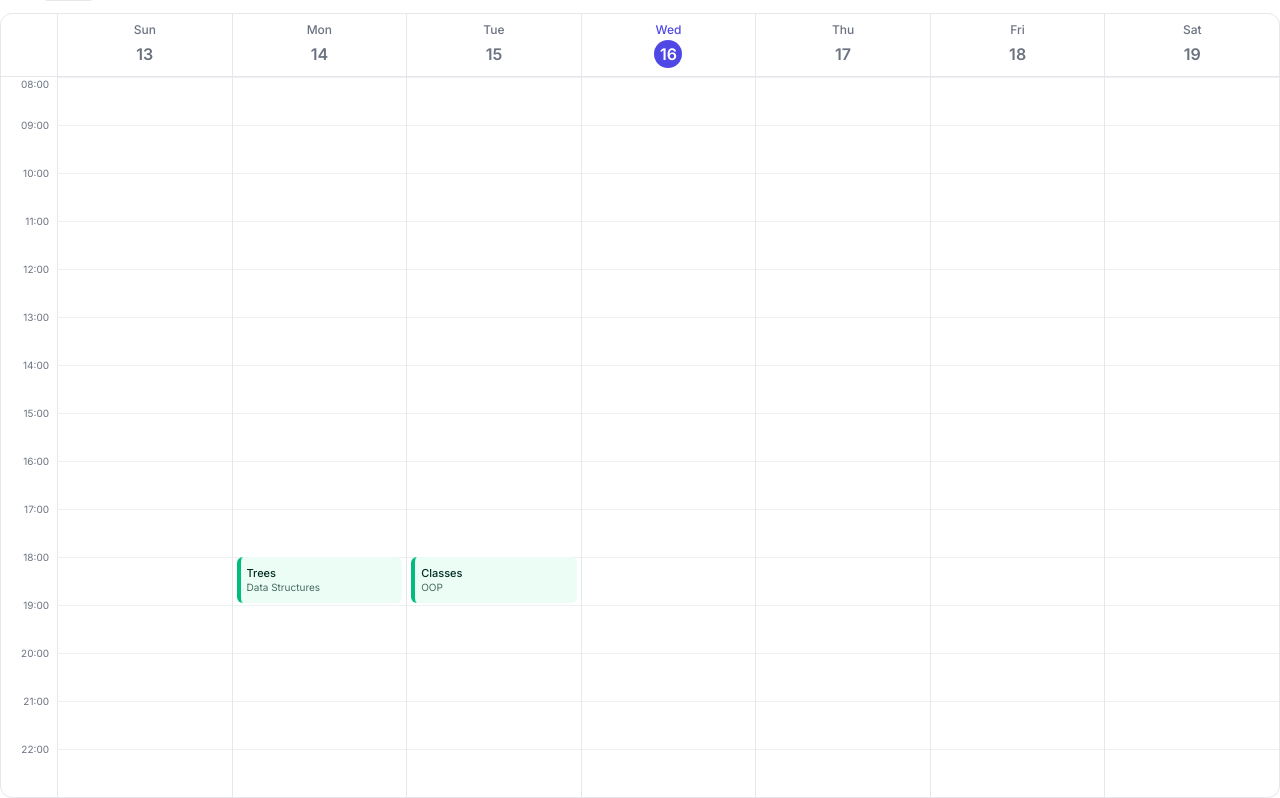
Test: CalendarPage › opens the topic behind an event with that action highlighted
(page scrolled)
Step 1. Click the button "Classes OOP" → (494, 580), box [411,557,577,603]
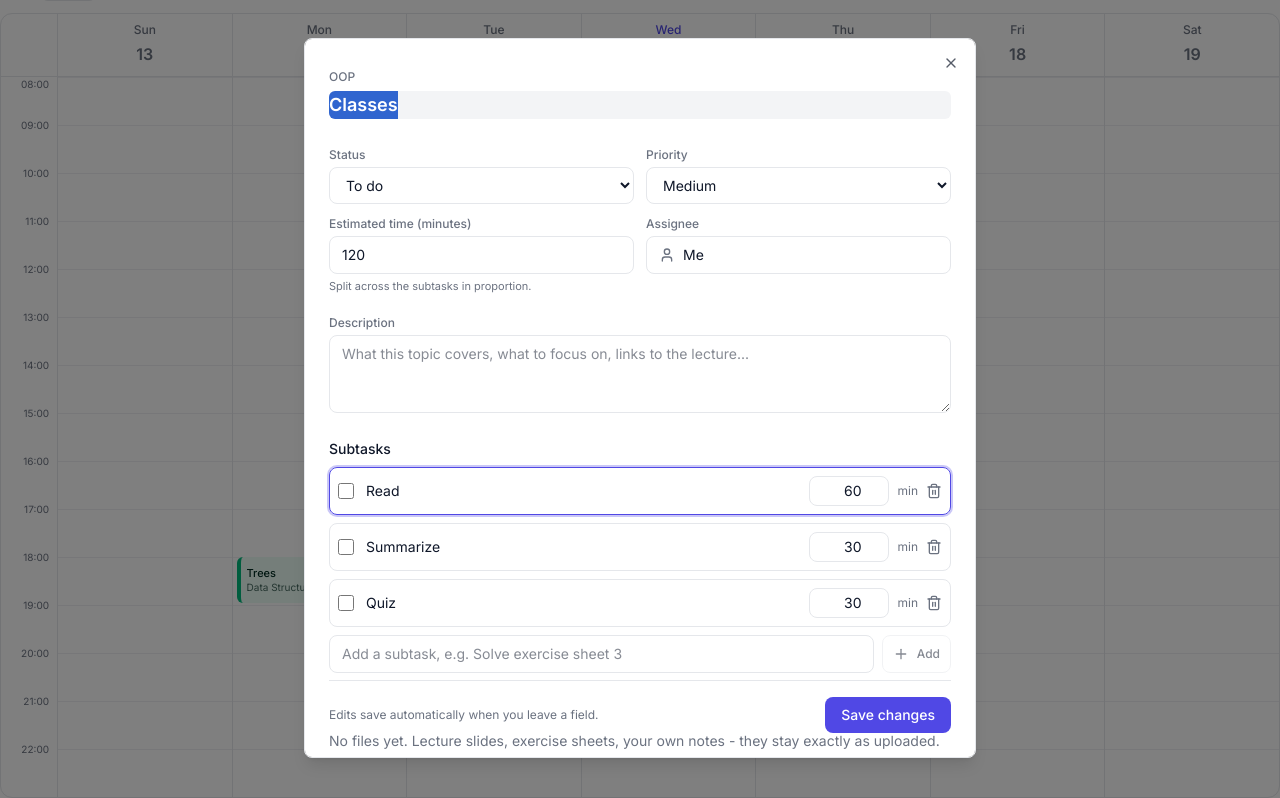
Expected: the dialog is shown, [304,38,976,758]
Expected: the field named "Topic name" holds "Classes", [329,91,951,119]
